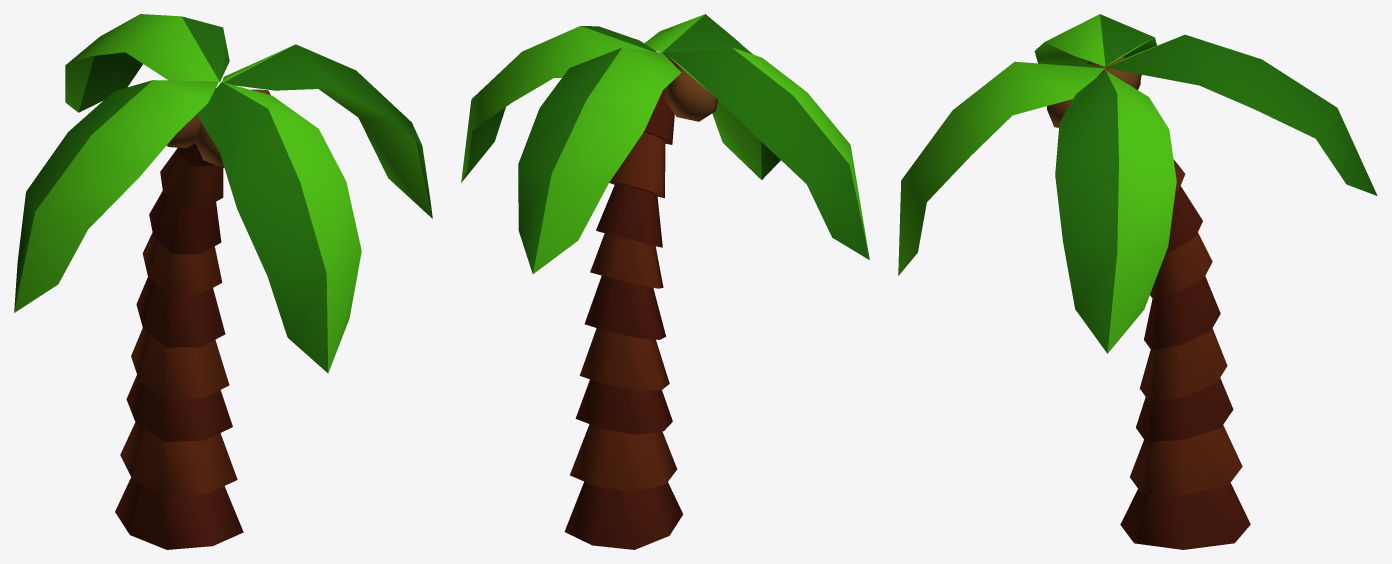
The model's file is Palm_whith_color.FBX.
3 renders of one model, left to right at view 1: azimuth 30°, elevation 25°; view 2: azimuth 150°, elevation 25°; view 3: azimuth 270°, elevation 25°, orthographic. The views are drawn at different scales.
Visible parts, largest first — view 1: Plane_001, Cube_001, Sphere_002; view 2: Plane_001, Cube_001, Sphere_002; view 3: Plane_001, Cube_001, Sphere_002.
Boxes of the visible parts, <box> form: Plane_001: <box>14,14,432,373</box>; Cube_001: <box>115,88,243,549</box>; Sphere_002: <box>167,89,270,167</box>; Plane_001: <box>461,14,869,273</box>; Cube_001: <box>564,52,683,549</box>; Sphere_002: <box>665,66,717,121</box>; Plane_001: <box>898,14,1377,353</box>; Cube_001: <box>1097,70,1250,549</box>; Sphere_002: <box>1047,56,1140,127</box>.
Size of the model in its own units: 417 by 474 by 418.
